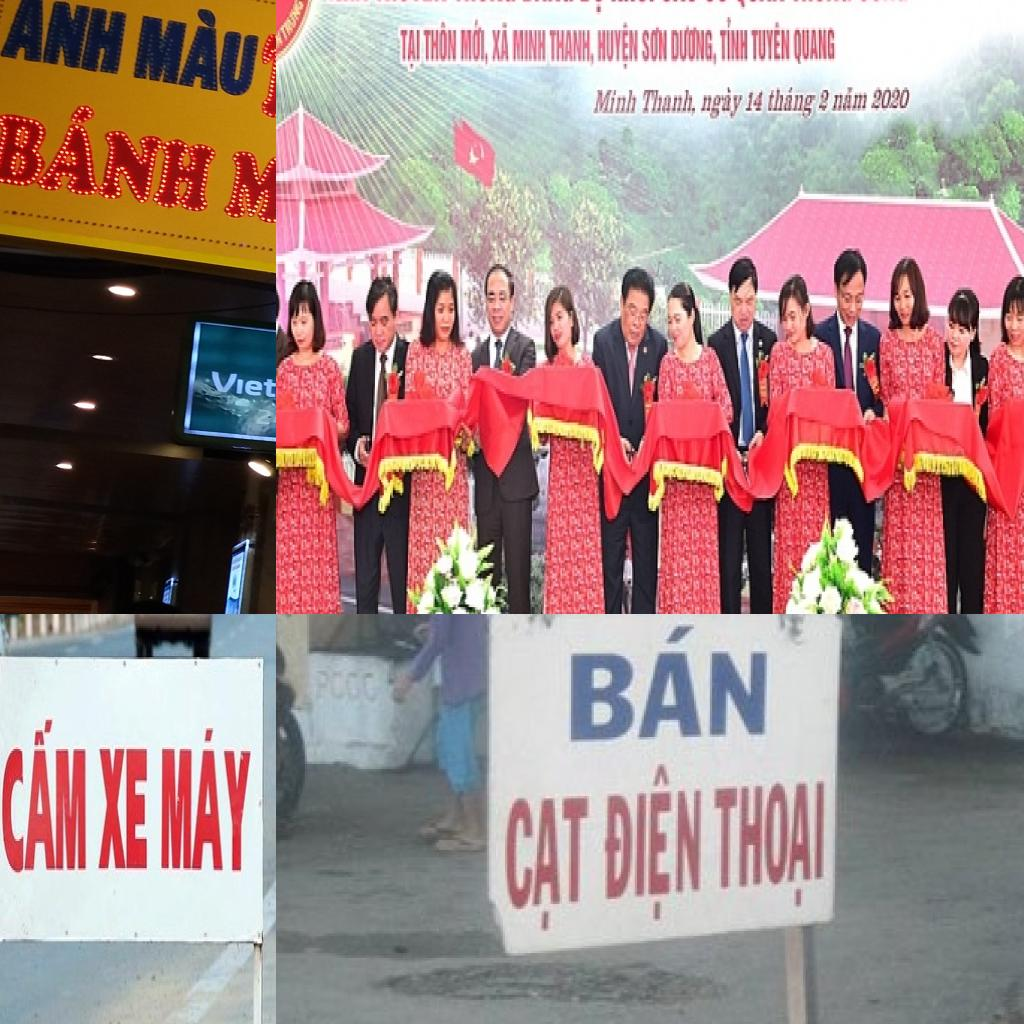text: (0, 82, 225, 218), (566, 624, 772, 747), (598, 759, 708, 931), (712, 776, 831, 919), (125, 0, 267, 106), (159, 726, 253, 877), (1, 720, 88, 876), (503, 791, 591, 941), (0, 0, 140, 80), (97, 747, 149, 870), (218, 125, 276, 231), (210, 364, 276, 417), (312, 666, 382, 707), (596, 17, 641, 80), (766, 80, 818, 121), (792, 22, 840, 66), (669, 25, 719, 66), (550, 22, 596, 66), (641, 84, 698, 118), (422, 17, 460, 67), (700, 82, 744, 124), (750, 22, 792, 64), (394, 22, 424, 80), (589, 84, 638, 118), (718, 14, 750, 64), (460, 17, 490, 69), (512, 25, 548, 66), (831, 84, 870, 118), (640, 22, 671, 64), (488, 22, 512, 66), (282, 0, 306, 43), (742, 82, 766, 121), (813, 82, 834, 119), (249, 404, 276, 430), (581, 0, 608, 19), (276, 24, 285, 61), (292, 0, 312, 14)
